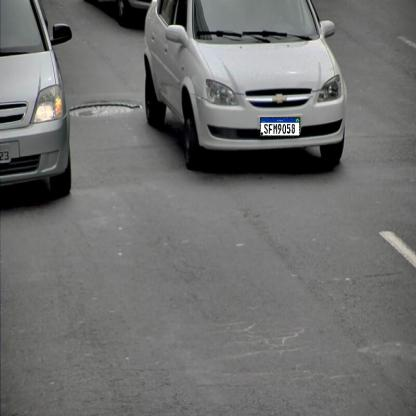PlacaM: (260, 117, 300, 137)
